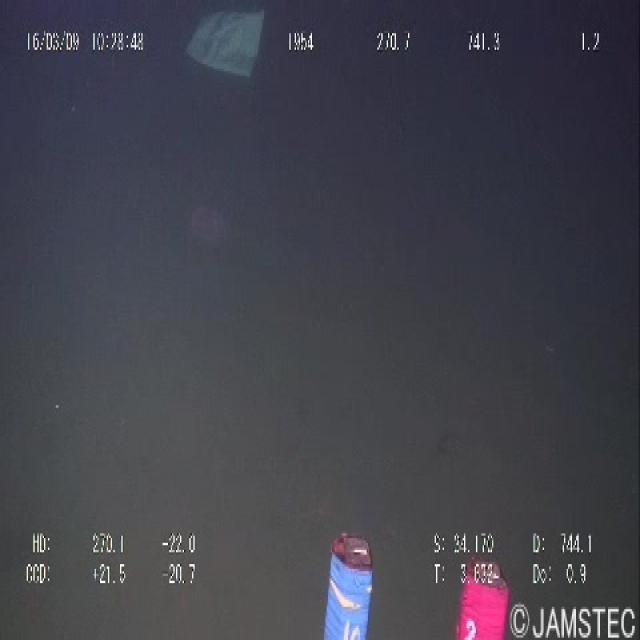plastic: (181, 0, 268, 88)
